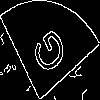G: (25, 24, 69, 84)
